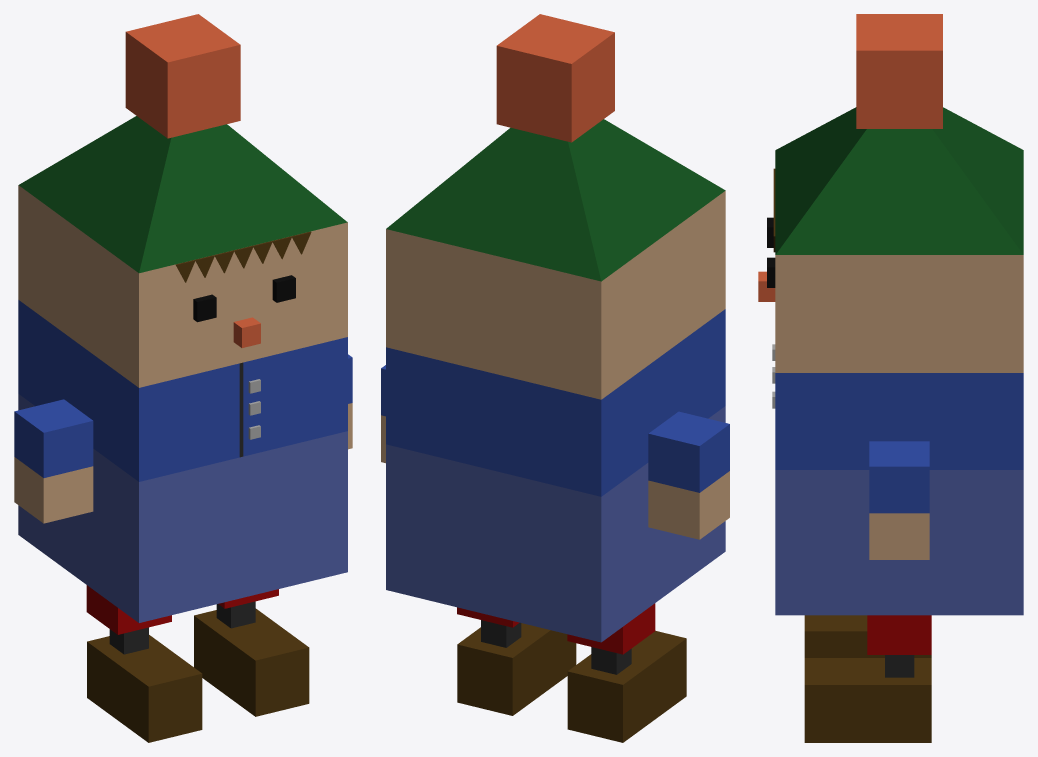
The model's file is 064 Xmas_Boy.fbx.
3 renders of one model, left to right at view 1: azimuth 30°, elevation 25°; view 2: azimuth 150°, elevation 25°; view 3: azimuth 270°, elevation 25°, orthographic. The views are drawn at different scales.
Visible parts, largest first — view 1: Lowpoly_Christmas_Pack_064:pCube23; view 2: Lowpoly_Christmas_Pack_064:pCube23; view 3: Lowpoly_Christmas_Pack_064:pCube23.
Boxes of the visible parts, bbox=[...] form: Lowpoly_Christmas_Pack_064:pCube23: bbox=[14, 14, 352, 742]; Lowpoly_Christmas_Pack_064:pCube23: bbox=[381, 14, 729, 742]; Lowpoly_Christmas_Pack_064:pCube23: bbox=[758, 14, 1023, 742].
Bounding box in the file's own units: 1.48 × 2.98 × 1.07.
